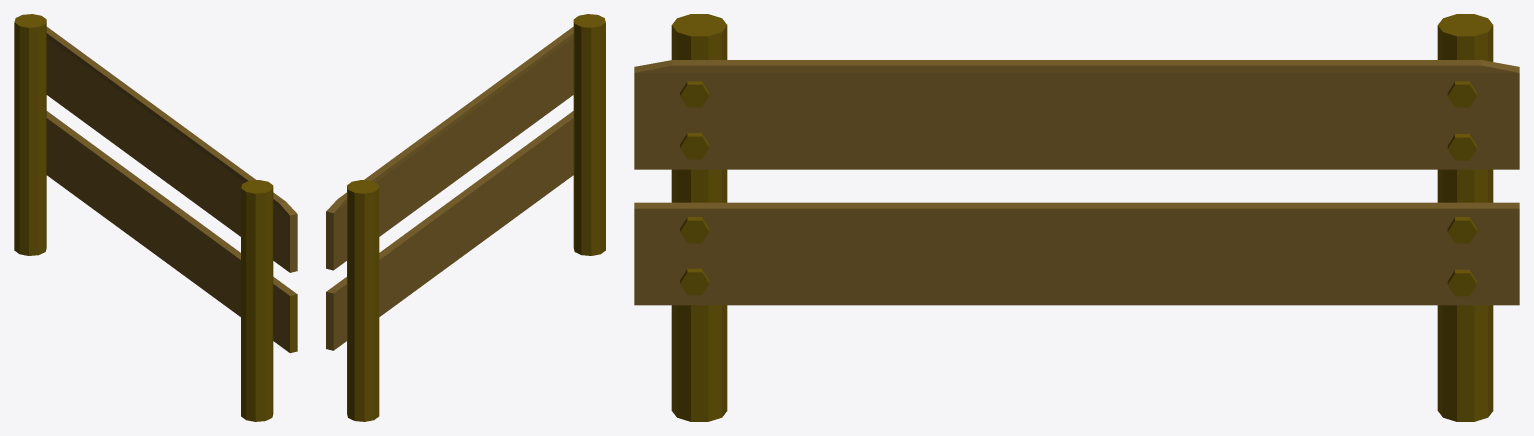
The model's file is cerca-clara.fbx.
3 views of the same model, side by side, from view 1: azimuth 30°, elevation 25°; view 2: azimuth 150°, elevation 25°; view 3: azimuth 270°, elevation 25° (orthographic). The views are drawn at different scales.
Parts seen in each view (by area): view 1: Cylinder; view 2: Cylinder; view 3: Cylinder.
Part boxes in pixels (x1,y1,x2,y2): Cylinder: (14, 14, 297, 421); Cylinder: (326, 14, 605, 421); Cylinder: (634, 14, 1519, 421).
Bounding box in the file's own units: 275 × 1528 × 3179.
